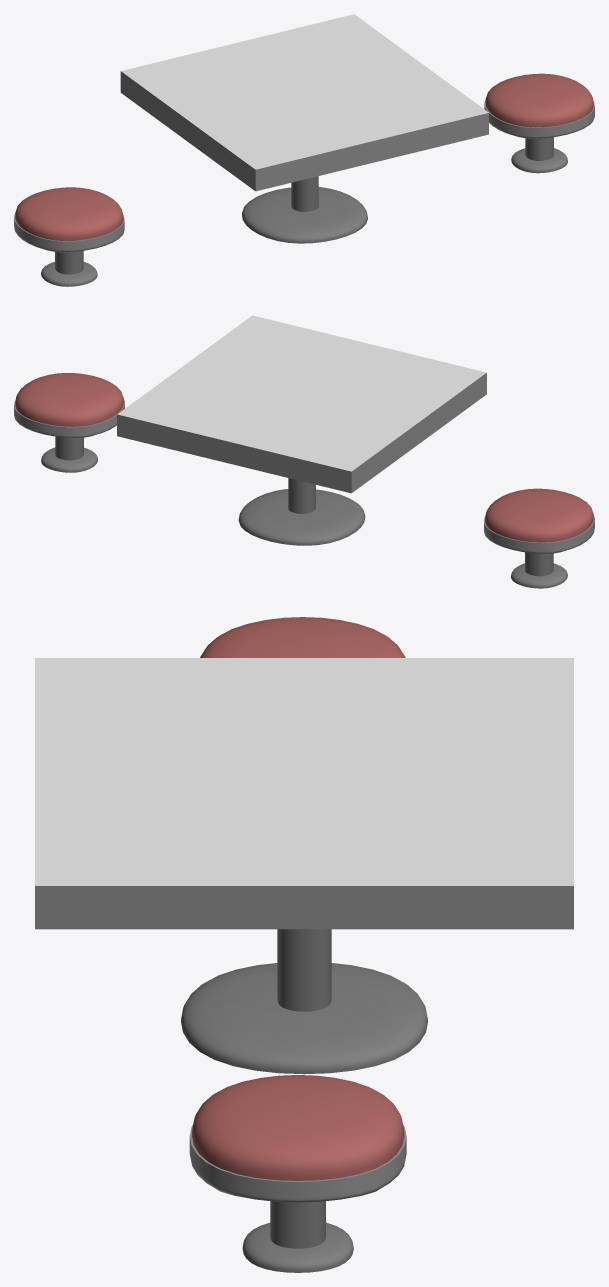
The model's file is tables_small.fbx.
3 views of the same model, one above another, from view 1: azimuth 30°, elevation 25°; view 2: azimuth 150°, elevation 25°; view 3: azimuth 270°, elevation 25° (orthographic). The views are drawn at different scales.
Parts seen in each view (by area): view 1: Cube.139; view 2: Cube.139; view 3: Cube.139.
Part boxes in pixels (x1,y1,x2,y2): Cube.139: (14, 14, 594, 286); Cube.139: (14, 315, 594, 588); Cube.139: (35, 617, 573, 1272).
Size of the model in its own units: 482 by 200 by 102.
